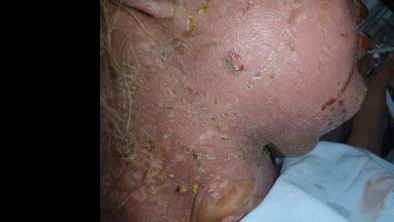SJS-TEN: (101, 107, 277, 222), (217, 30, 263, 86)
